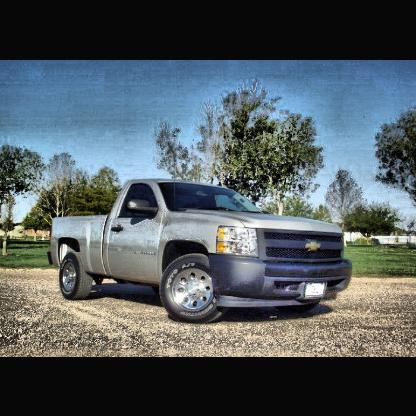Chevrolet Silverado 1500 Regular Cab 2012: (48, 179, 354, 325)
